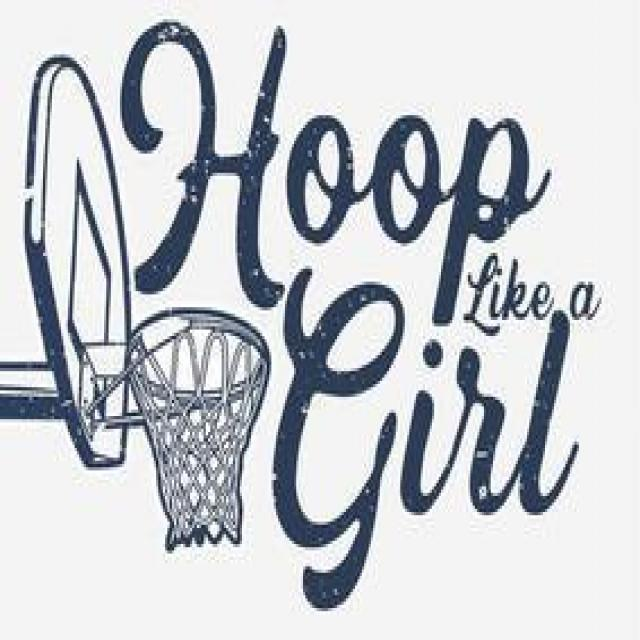hoop: (125, 308, 272, 550)
